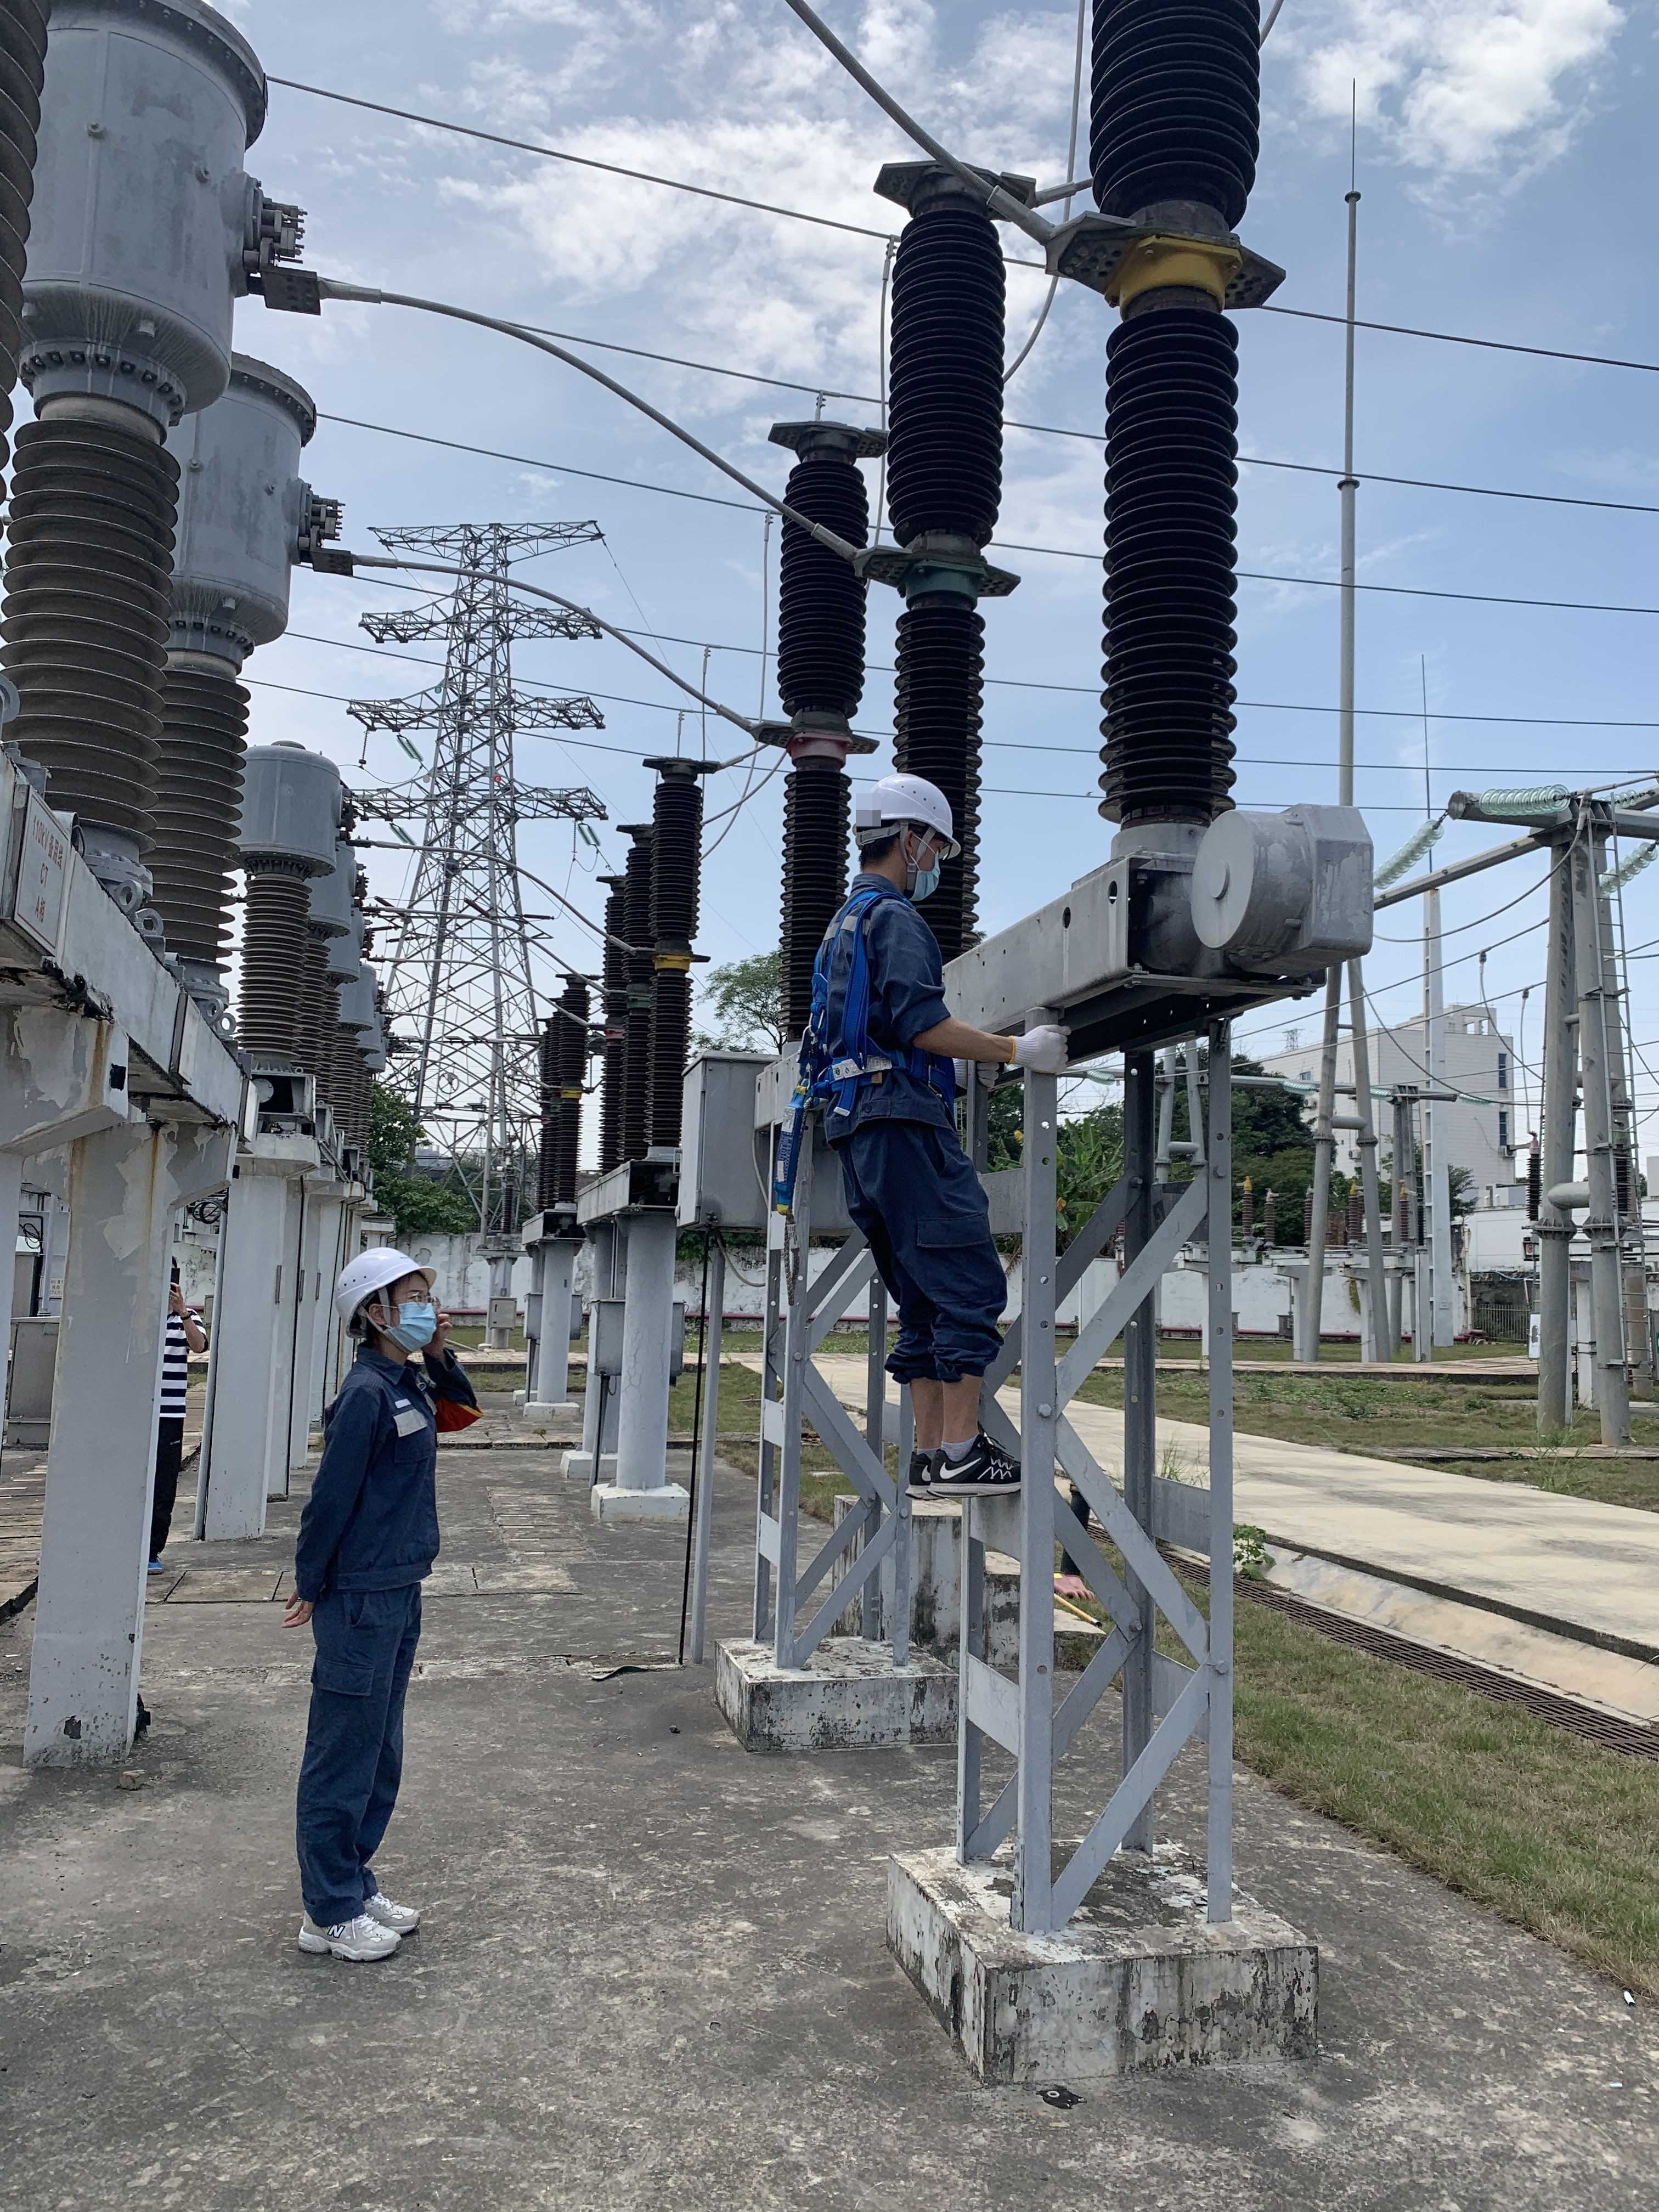downsuit: (831, 1136, 1014, 1383), (293, 1611, 420, 1918)
upcloth: (159, 1317, 202, 1428)
upsuit: (293, 1352, 462, 1595), (817, 871, 953, 1113)
wrongbottom: (887, 1348, 999, 1472)
wrongtop: (894, 998, 1028, 1078)
